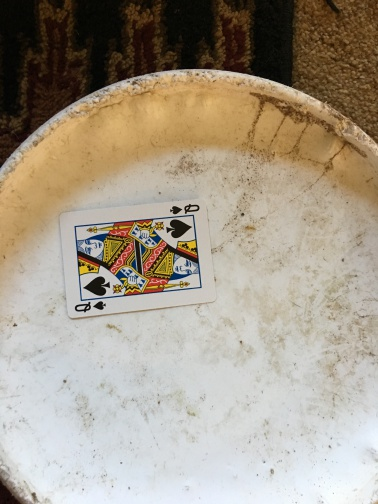queen: (55, 201, 217, 319)
